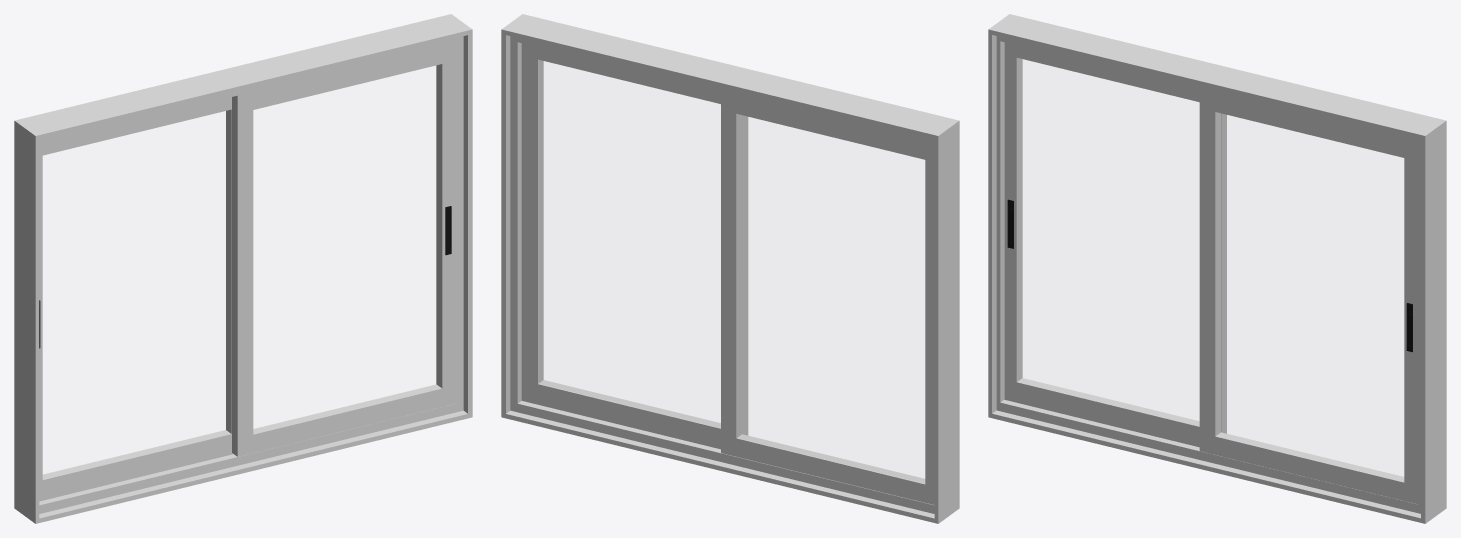
Rendered from GlassWindowDouble001.glb.
3 renders of one model, left to right at view 1: azimuth 30°, elevation 25°; view 2: azimuth 150°, elevation 25°; view 3: azimuth 330°, elevation 25°, orthographic.
Parts seen in each view (by area): view 1: WindowDoubleFrame001[windowframe]; view 2: WindowDoubleFrame001[windowframe]; view 3: WindowDoubleFrame001[windowframe], WindowDoubleHandle001[window].
Part boxes in pixels (bbox=[...]): WindowDoubleFrame001[windowframe]: bbox=[14, 14, 472, 523]; WindowDoubleFrame001[windowframe]: bbox=[501, 14, 959, 523]; WindowDoubleFrame001[windowframe]: bbox=[988, 14, 1446, 523]; WindowDoubleHandle001[window]: bbox=[1007, 199, 1412, 352].
Bounding box in the file's own units: 1.21 × 1.02 × 0.101.
3 materials, 1 textured.
